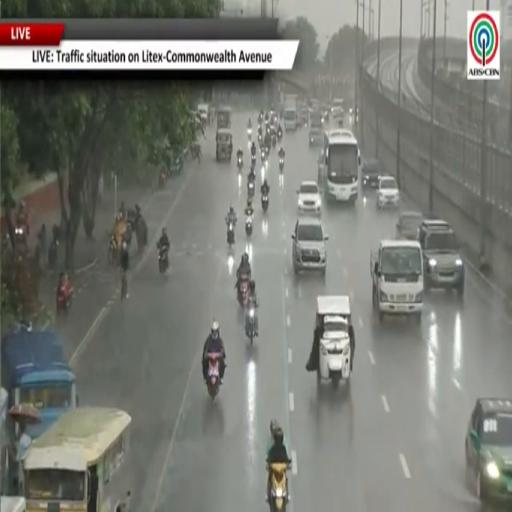bus: (23, 408, 131, 511), (2, 328, 76, 438), (319, 130, 360, 203), (331, 99, 344, 119)
car: (465, 398, 511, 505), (418, 219, 464, 297), (292, 217, 328, 275), (297, 181, 321, 215), (377, 175, 399, 209), (396, 212, 423, 239), (361, 158, 382, 189), (309, 125, 323, 147), (198, 104, 209, 123)
jeepney: (315, 296, 351, 386), (216, 128, 232, 161), (0, 496, 26, 511), (217, 107, 231, 130)
motorcycle: (270, 463, 288, 511), (128, 211, 148, 249), (207, 352, 222, 399), (57, 282, 73, 312), (48, 226, 59, 269), (237, 275, 250, 307), (246, 307, 255, 344), (15, 223, 27, 248), (108, 234, 118, 264), (159, 248, 169, 274), (227, 222, 235, 247), (245, 216, 253, 236), (158, 170, 167, 186), (261, 195, 269, 212), (248, 180, 255, 198), (261, 147, 266, 164), (279, 157, 284, 172), (237, 156, 242, 170), (252, 153, 256, 167), (277, 131, 282, 142), (272, 134, 276, 147), (258, 115, 263, 125), (248, 128, 252, 140), (258, 134, 262, 145)
truck: (370, 239, 423, 324), (283, 94, 297, 131)
